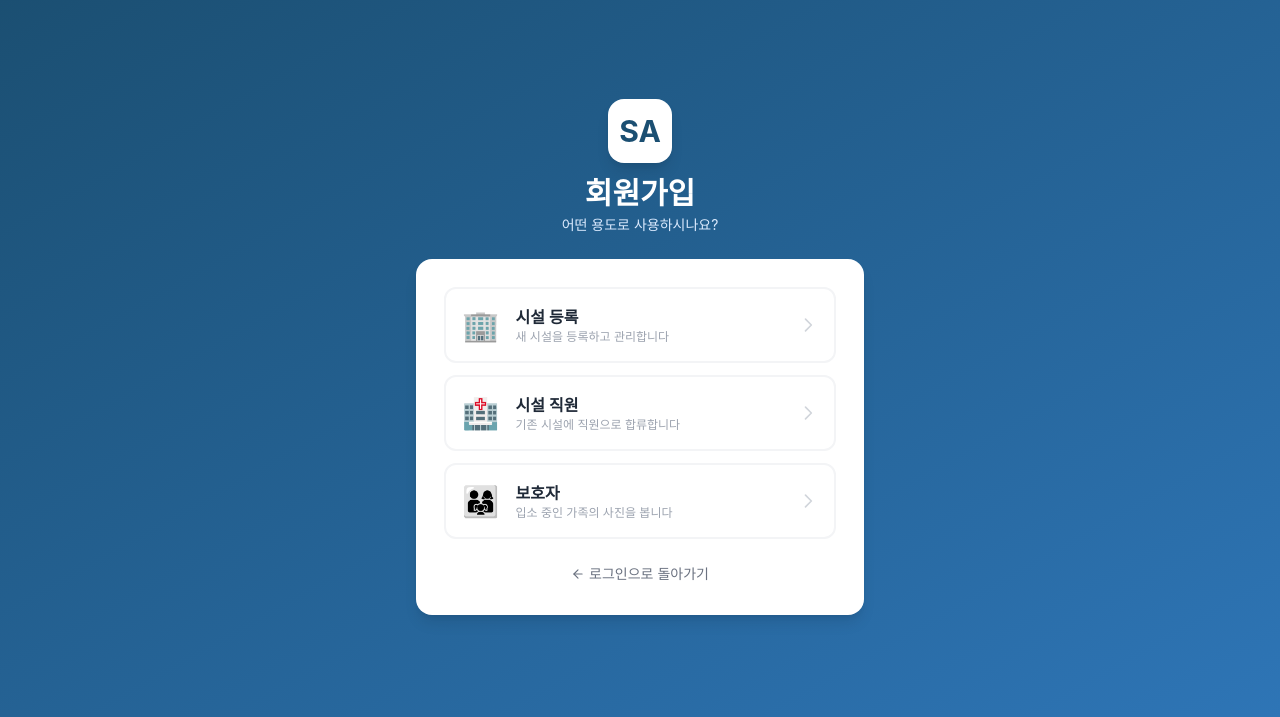
Test case: RegisterPage › 공통 유효성 검증 › 역할 다시 선택하기 버튼으로 Step 1로 돌아간다
This screenshot has width=1280, height=717.
Click the text "시설 직원": (547, 405) left=515, top=395, right=578, bottom=415
(page scrolled)
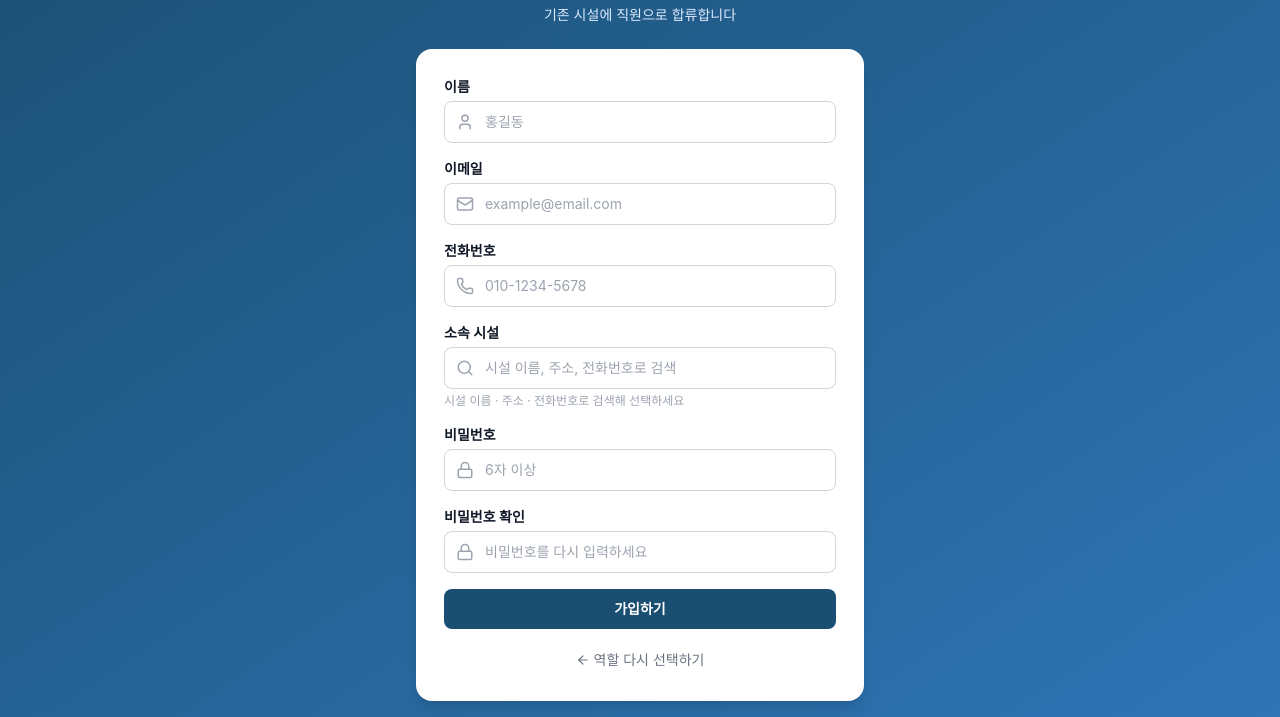
Expected: the field with placeholder "홍길동" is shown, left=444, top=101, right=836, bottom=143
Click the button "역할 다시 선택하기": (640, 660) left=576, top=650, right=704, bottom=670
(page scrolled)
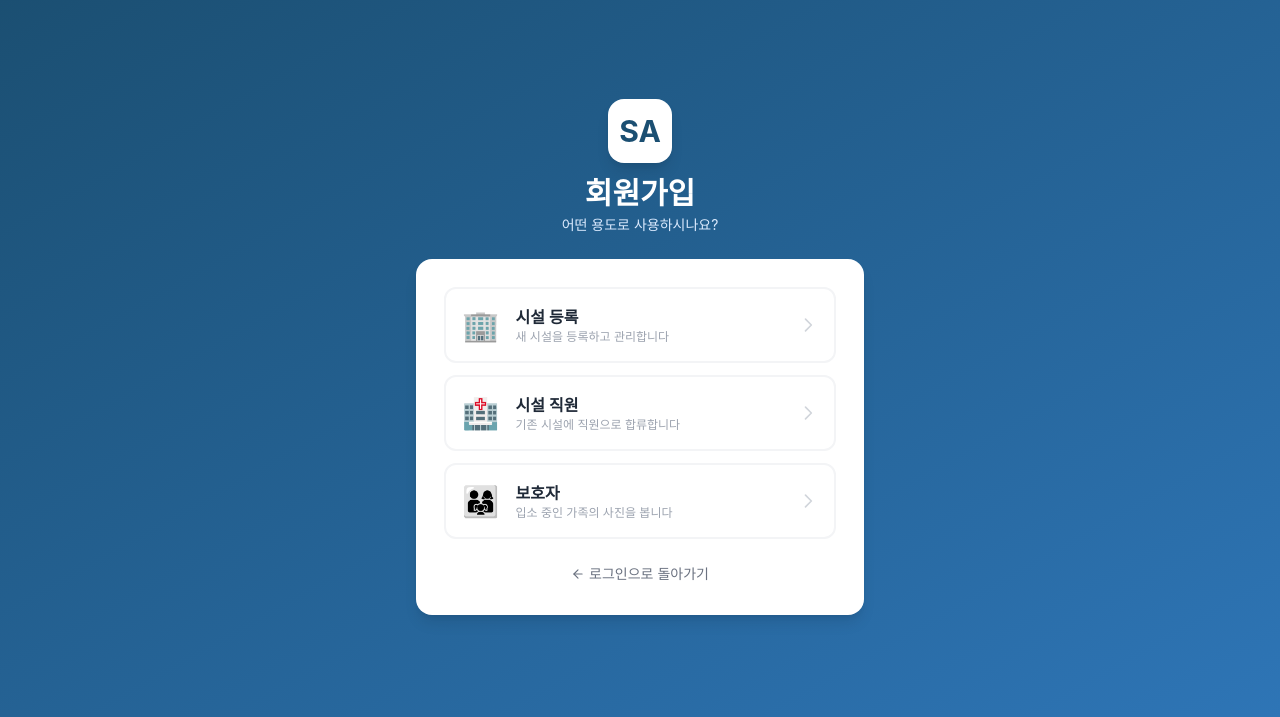
Expected: the text "시설 직원" is shown, left=515, top=395, right=578, bottom=415
Expected: the text "시설 등록" is shown, left=515, top=307, right=578, bottom=327
Expected: the text "보호자" is shown, left=515, top=483, right=560, bottom=503
